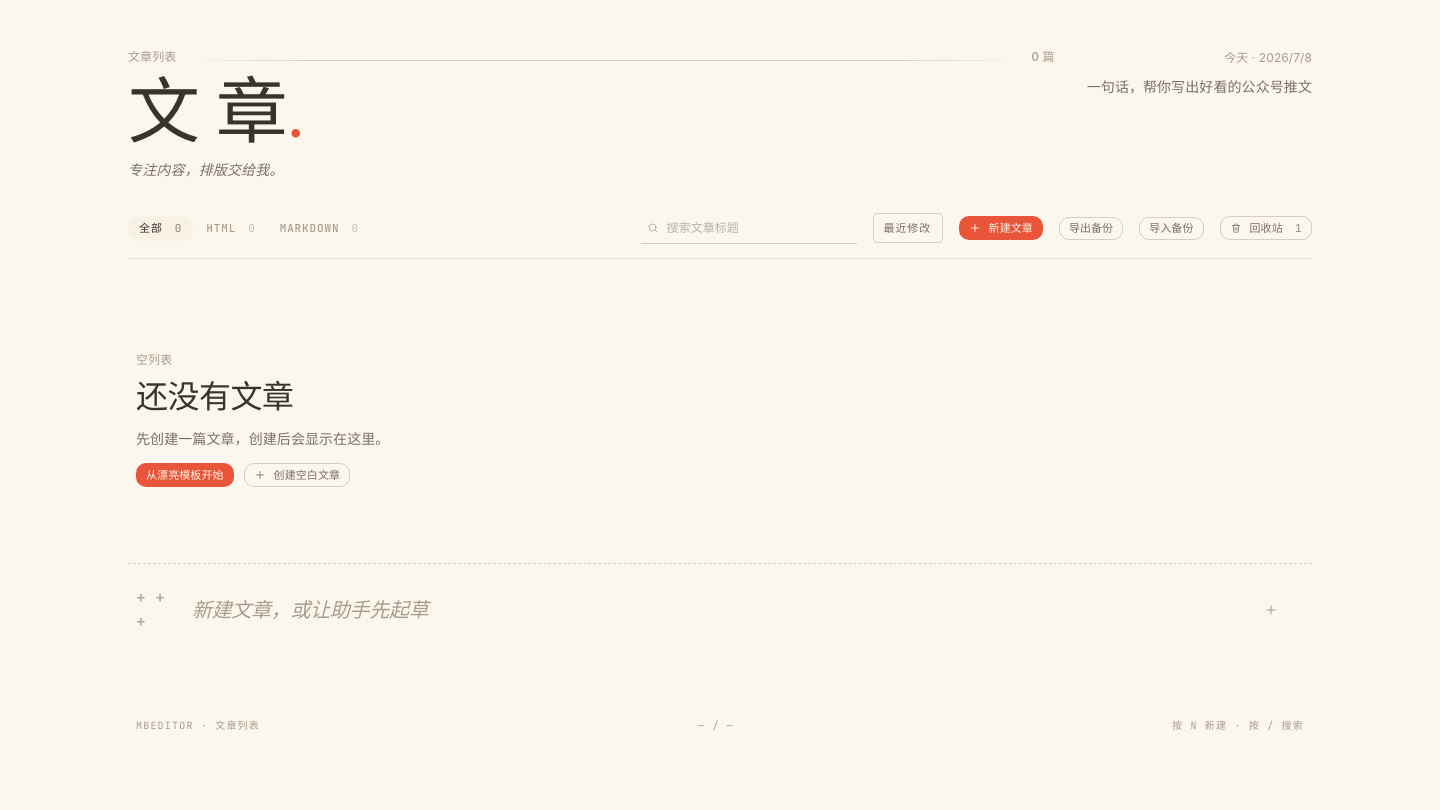
Test case: ArticleList › 点回收站入口开合面板
The width and height of the screenshot is (1440, 810).
Click the button with test id "trash-toggle". click: (1266, 228)
box: x1=1220 y1=216 x2=1312 y2=240
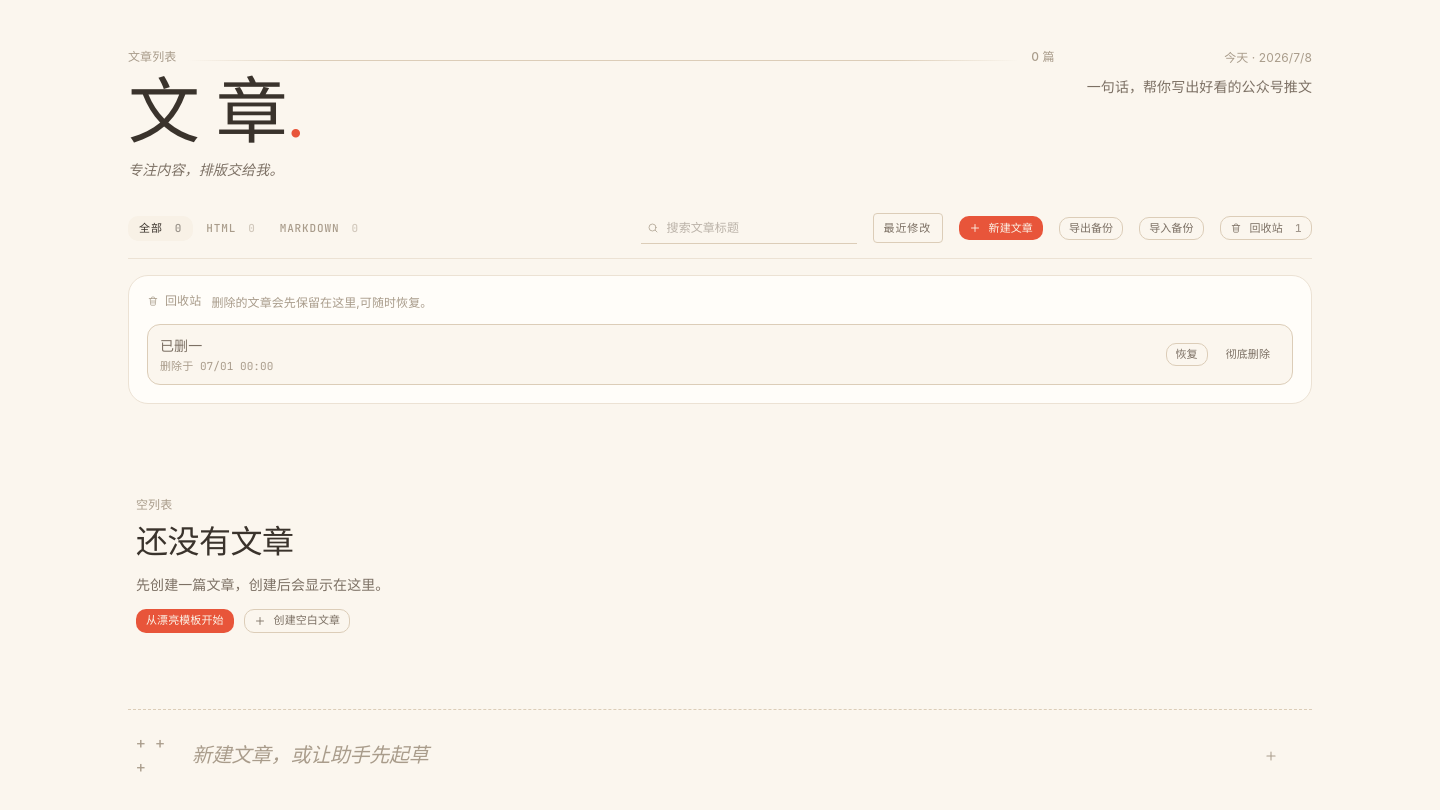
expect the element with test id "trash-panel" is shown: met, box x1=128 y1=275 x2=1312 y2=404
expect the text "已删一" is shown: met, box x1=160 y1=337 x2=202 y2=354
Click the button with test id "trash-toggle". click: (1266, 228)
box: x1=1220 y1=216 x2=1312 y2=240
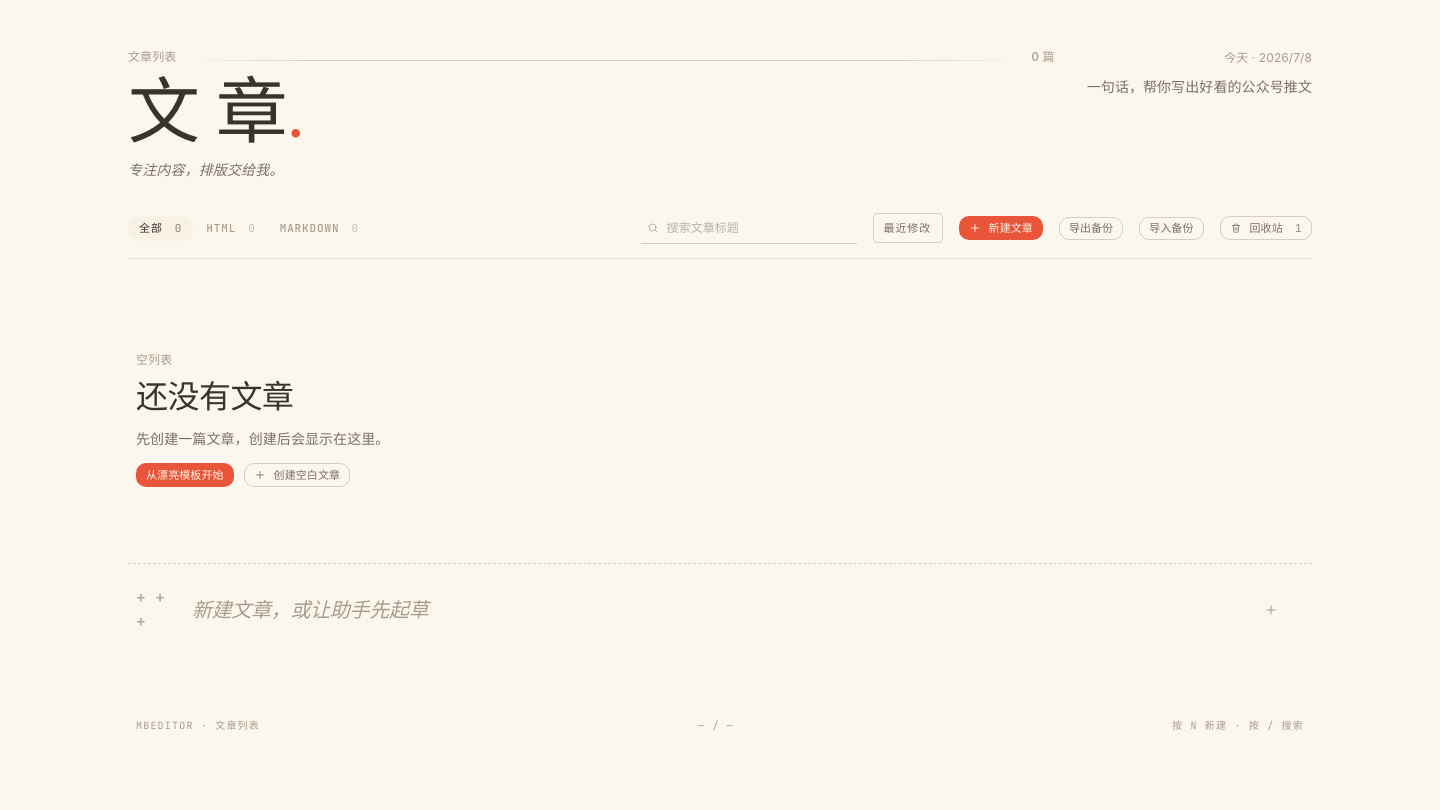
expect the element with test id "trash-panel" is gone: met
